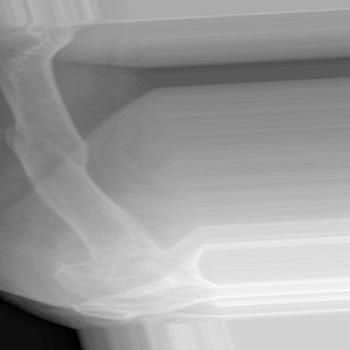Fracture: (0, 120, 103, 170)
